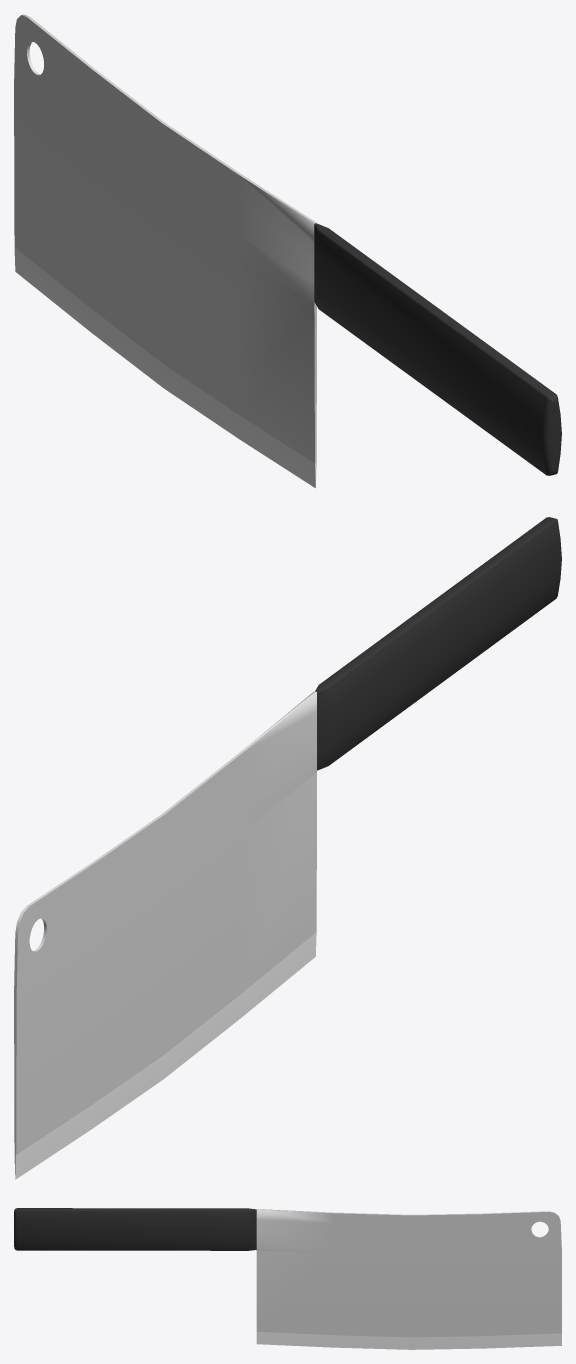
File: Meat Cleaver.fbx
The picture shows the model from 3 angles, top to bottom: view 1: azimuth 30°, elevation 25°; view 2: azimuth 150°, elevation 25°; view 3: azimuth 270°, elevation 25°; orthographic projection. The views are drawn at different scales.
Visible parts, largest first — view 1: Meat Cleaver; view 2: Meat Cleaver; view 3: Meat Cleaver.
Boxes of the visible parts, x1,y1,x2,y2 form: Meat Cleaver: [14, 14, 561, 488]; Meat Cleaver: [14, 517, 561, 1179]; Meat Cleaver: [14, 1208, 561, 1349].
Size of the model in its own units: 1.18 by 16.25 by 57.33.
